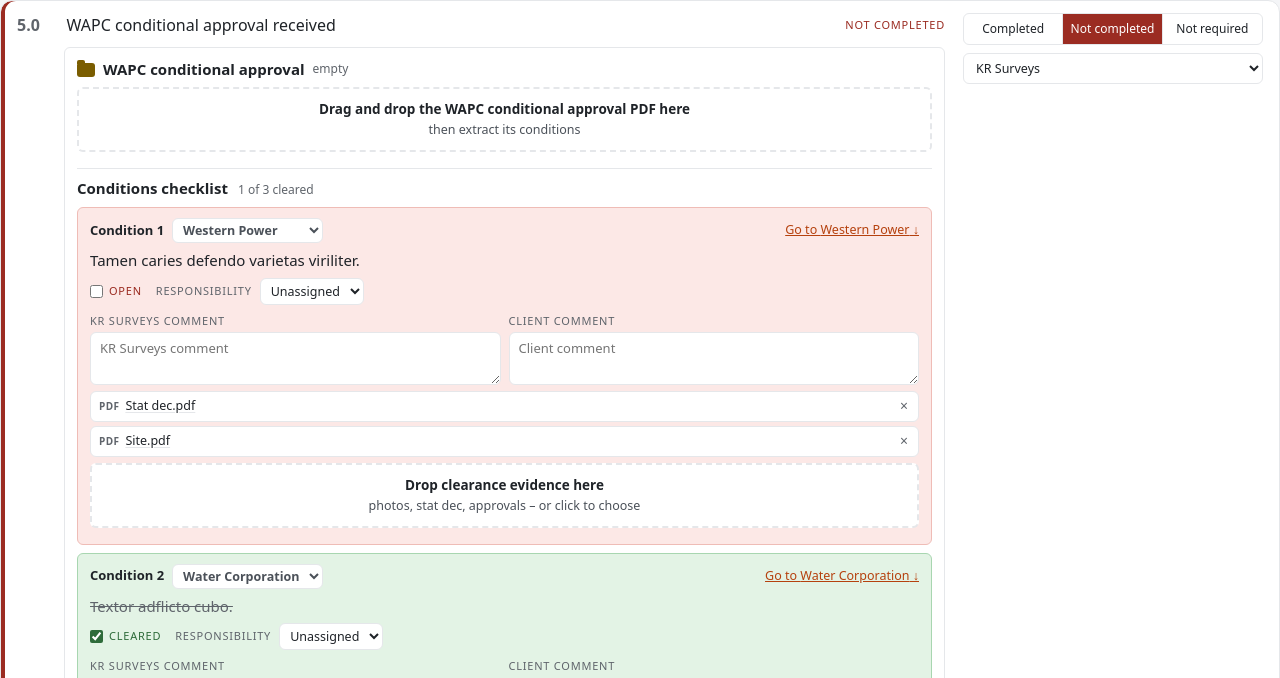
Test: condition evidence files › puts the file back and shows the save-failed banner when removing fails
The image size is (1280, 678).
Click the button named "Remove Stat dec.pdf" at (904, 406), box [894,397,914,415]
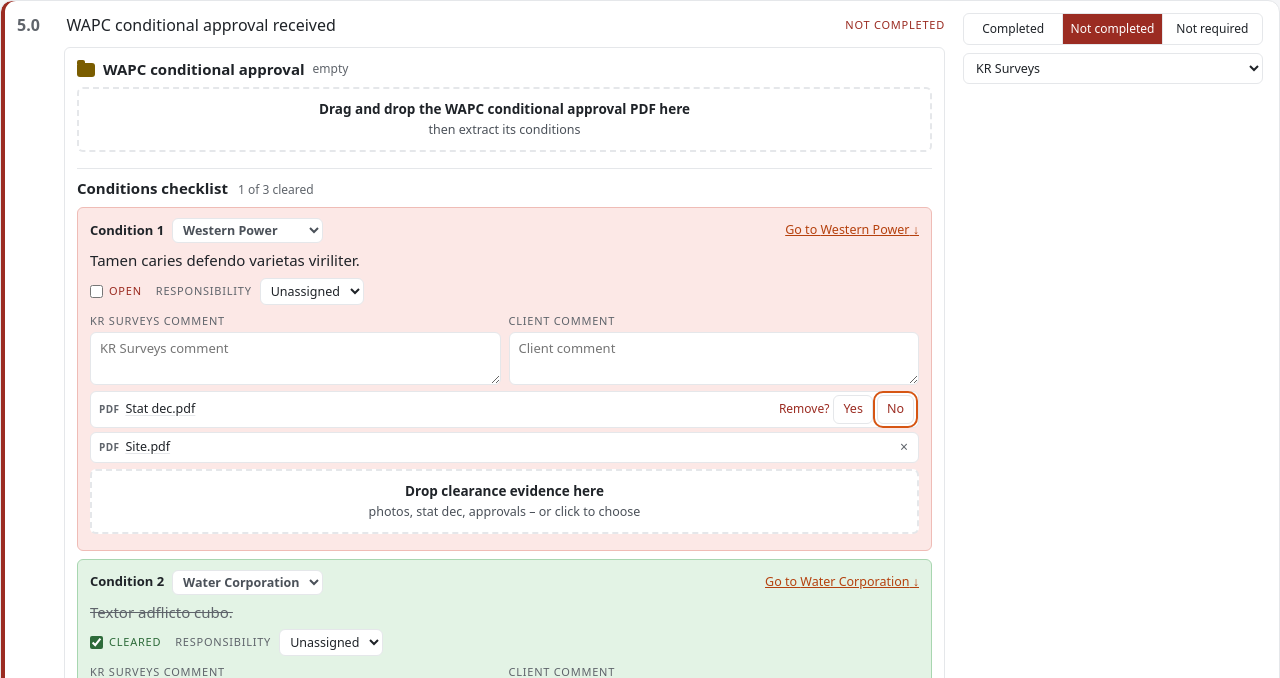
Click the button "Yes" at (853, 409), box [833,395,873,424]
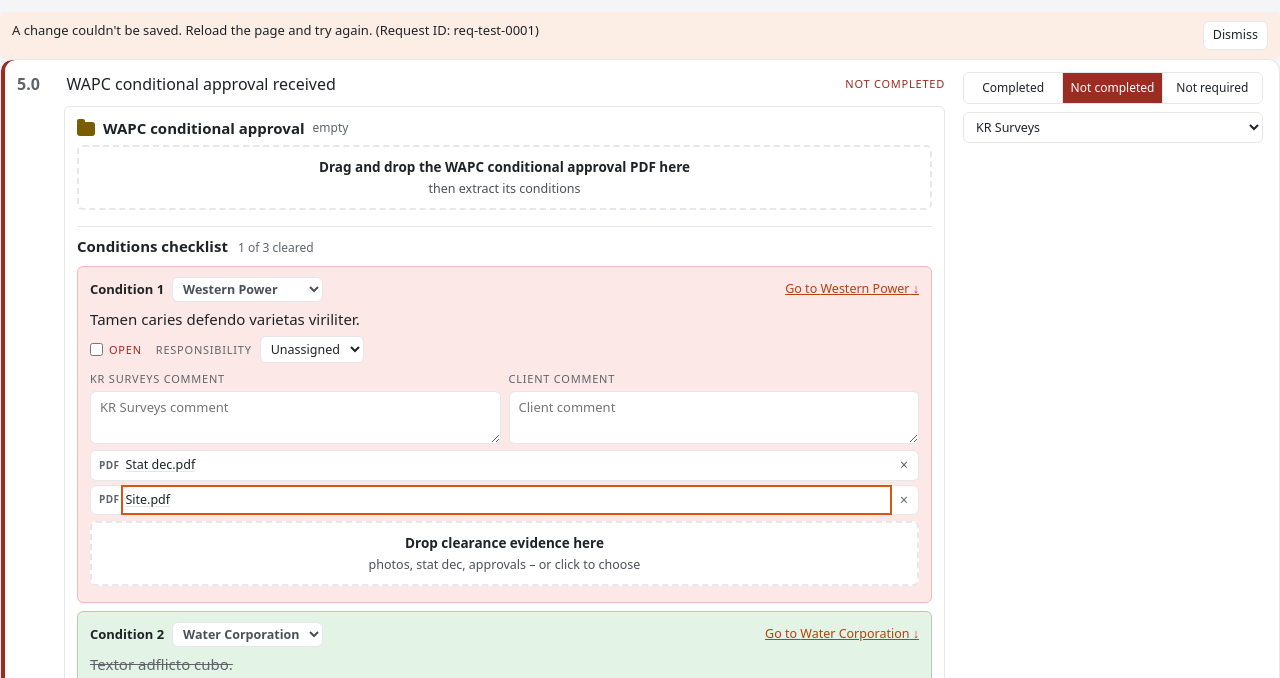
Expected: the button "Stat dec.pdf" is shown, [125,454,888,477]
Now the text "A change couldn't be saved." is shown, box [12,21,539,39]
